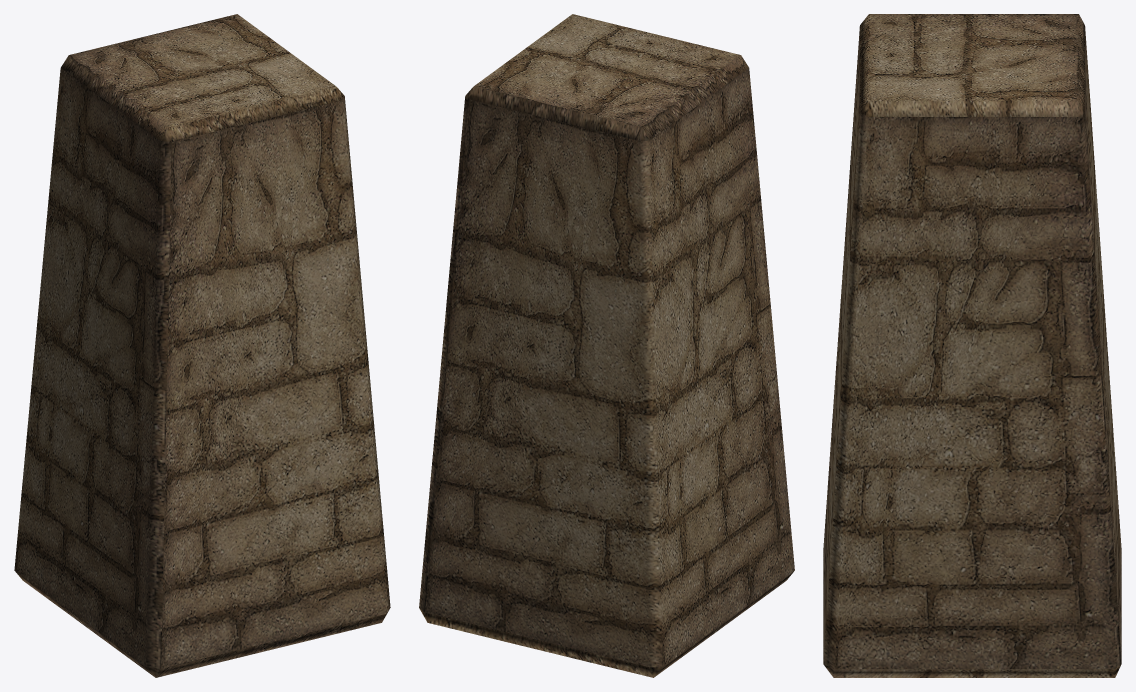
Rendered from Block_06.fbx.
The picture shows the model from 3 angles, left to right: view 1: azimuth 30°, elevation 25°; view 2: azimuth 150°, elevation 25°; view 3: azimuth 270°, elevation 25°; orthographic projection. The views are drawn at different scales.
Visible parts, largest first — view 1: Block_06; view 2: Block_06; view 3: Block_06.
Part boxes in pixels (<box>): Block_06: <box>14,14,390,677</box>; Block_06: <box>419,14,794,677</box>; Block_06: <box>823,14,1121,677</box>.
Size of the model in its own units: 1.93 by 4.01 by 1.93.
